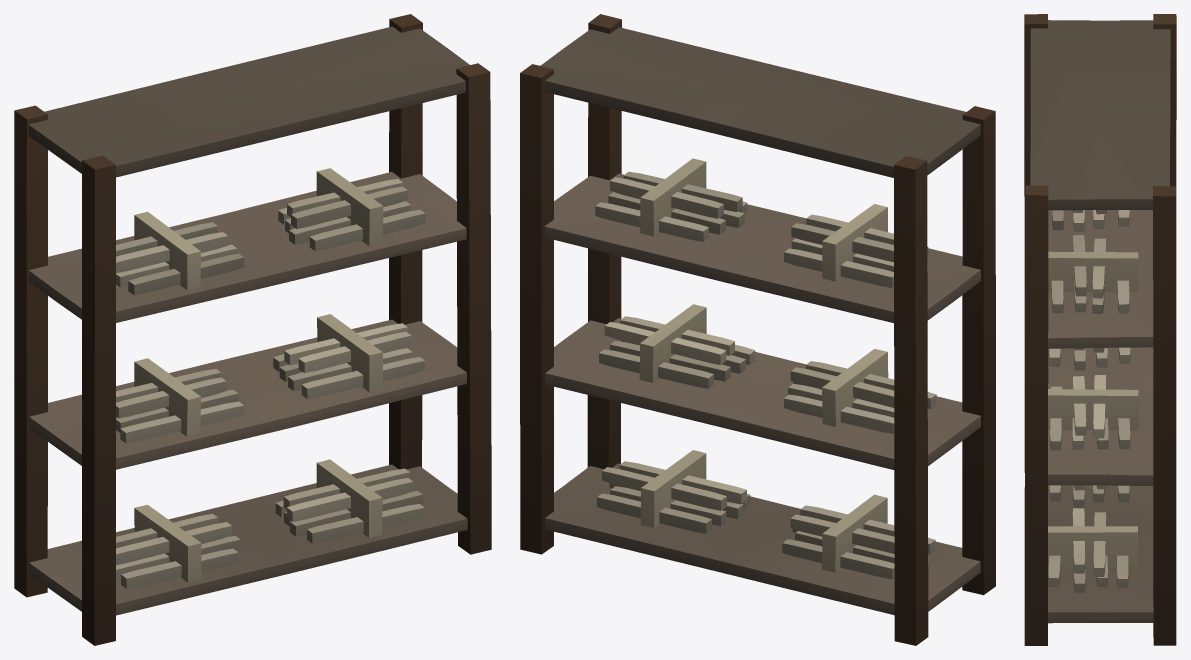
The model's file is ph_int_bone_rack.glb.
3 renders of one model, left to right at view 1: azimuth 30°, elevation 25°; view 2: azimuth 150°, elevation 25°; view 3: azimuth 270°, elevation 25°, orthographic. The views are drawn at different scales.
Visible parts, largest first — view 1: ph_int_bone_rack; view 2: ph_int_bone_rack; view 3: ph_int_bone_rack.
Part boxes in pixels (bbox=[...]): ph_int_bone_rack: bbox=[14, 14, 491, 645]; ph_int_bone_rack: bbox=[520, 14, 995, 645]; ph_int_bone_rack: bbox=[1024, 14, 1176, 645].
Bounding box in the file's own units: 1.48 × 1.71 × 0.5219.
